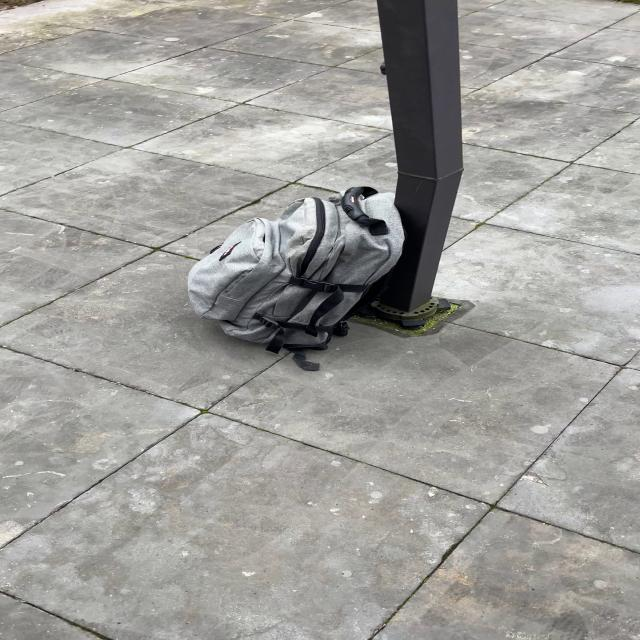backpack: (175, 182, 410, 355)
